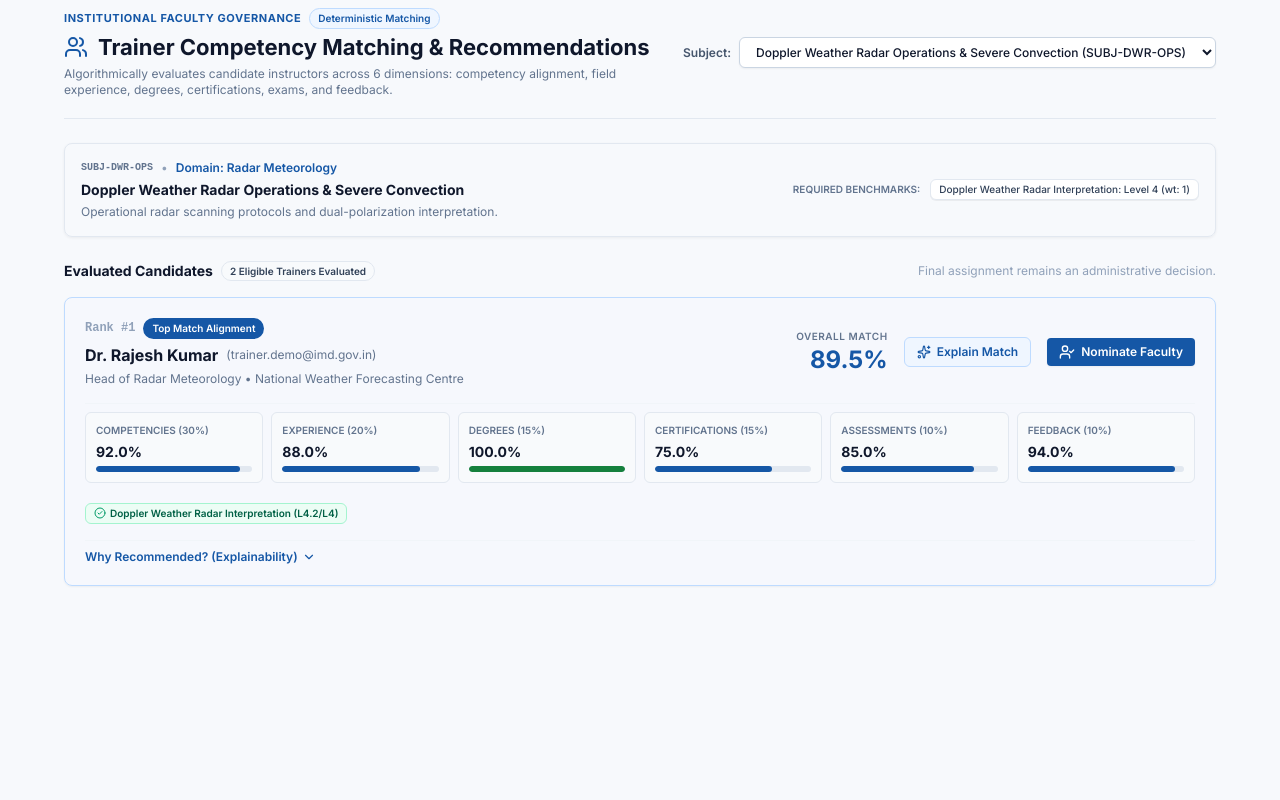
Scenario: Phase 5: Competency Intelligence & 3D Universe › expands algorithmic recommendation explanation when why recommended is clicked
Click the button "Why Recommended? (Explainability)": (200, 557) [85, 549, 316, 565]
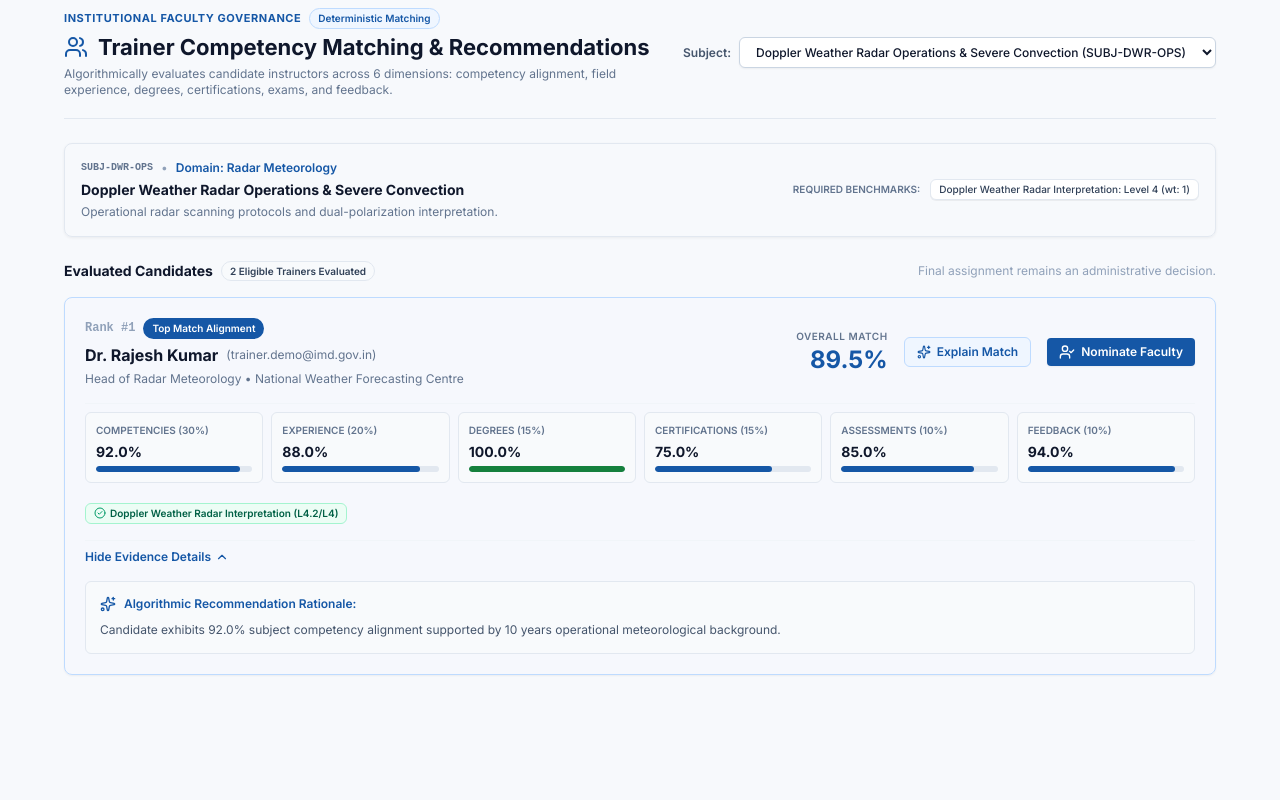
Expected: the text "Candidate exhibits 92.0% subject competency alignment" is shown, [100, 622, 781, 637]
